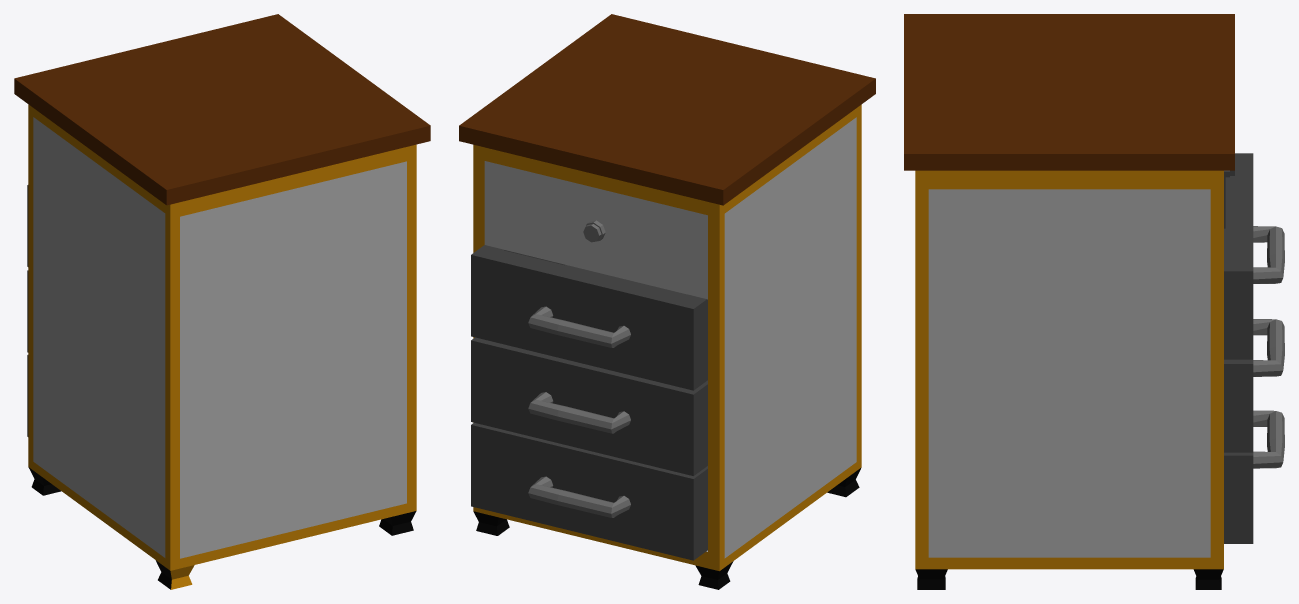
Rendered from Drawer_A.fbx.
3 renders of one model, left to right at view 1: azimuth 30°, elevation 25°; view 2: azimuth 150°, elevation 25°; view 3: azimuth 270°, elevation 25°, orthographic. The views are drawn at different scales.
Visible parts, largest first — view 1: Drawer; view 2: Drawer, Draw; view 3: Drawer, Draw.
Boxes of the visible parts, box(x1,y1,x2,y2) form: Drawer: box(14, 14, 430, 589); Drawer: box(459, 14, 875, 589); Draw: box(471, 245, 707, 560); Drawer: box(904, 14, 1234, 589); Draw: box(1224, 153, 1284, 543).
Bounding box in the file's own units: 107 × 123 × 158.
